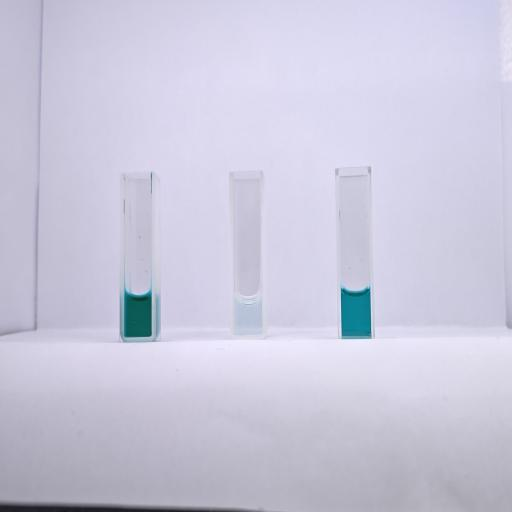cuvette: (334, 164, 376, 340), (118, 170, 158, 344), (228, 169, 268, 340)
liquid: (342, 288, 370, 334), (124, 290, 151, 336), (235, 294, 261, 334)
